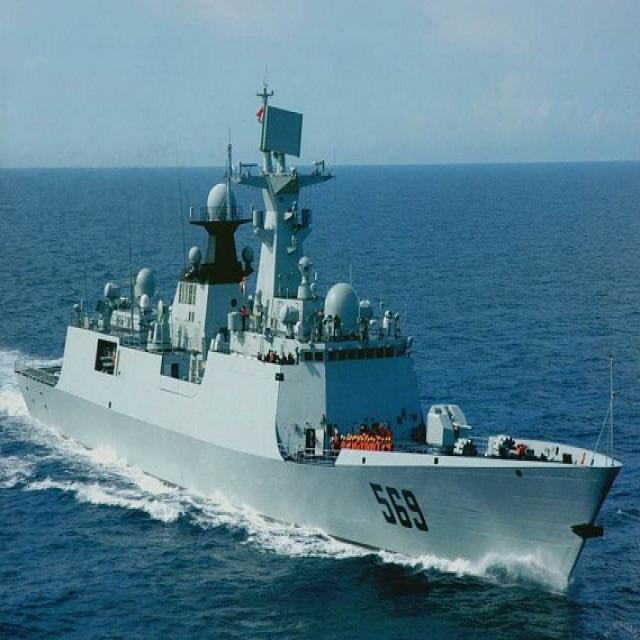Corvette-Jiangdao-class-056-CHI: (17, 77, 615, 602)
